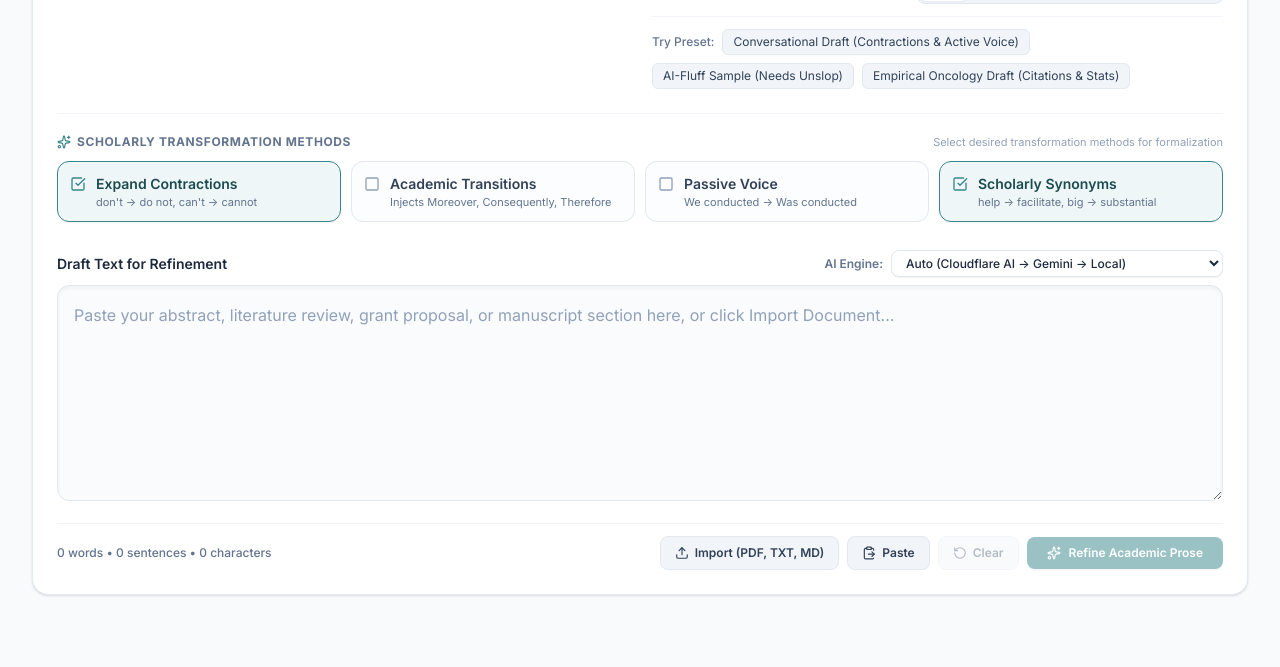
Test: Humanizer & AI Detector Regression Suite (Phases 1 - 8) › Test E: Humanizer Error Handling › displays error message when humanizer encounters API failure or timeout
(page scrolled)
Replace the text in the text box with placeholder "Paste your abstract" with "Draft text for analysis that will fail." at (640,393), box [57,285,1223,501]
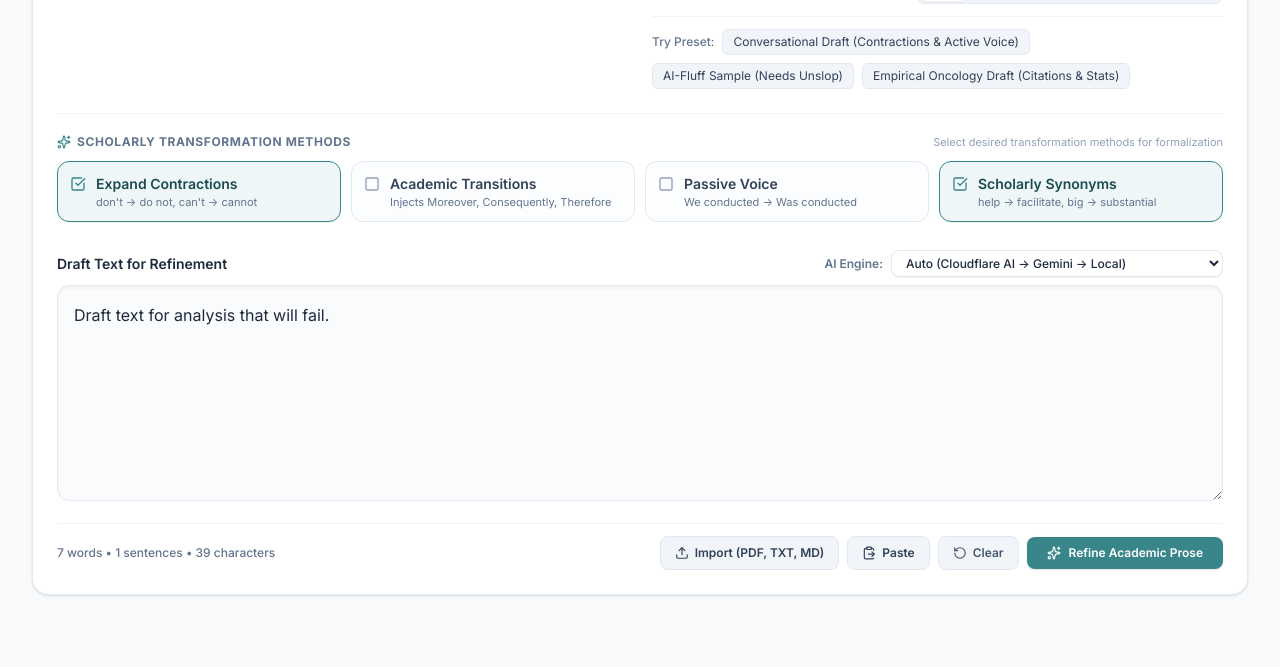
Click the button "Refine Academic Prose" at (1125,553), box [1027,537,1223,569]
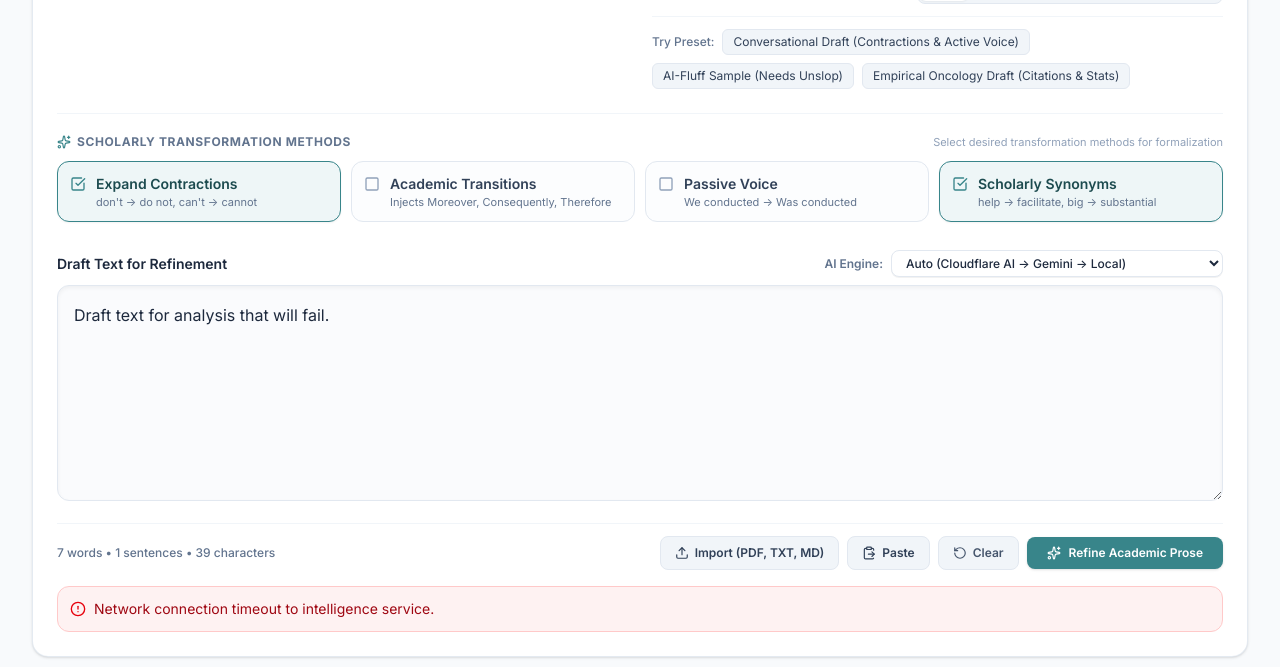
Result: the text "Network connection timeout to intelligence service." is shown at [94,599,434,619]
